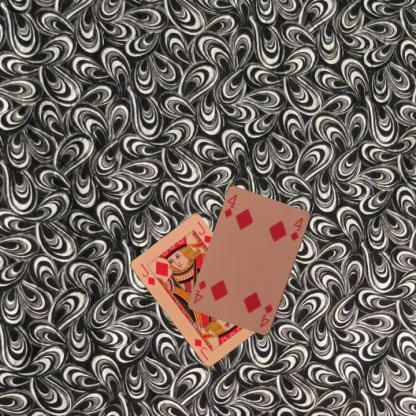4d: (257, 301, 275, 328), (221, 192, 238, 220)
Jd: (138, 261, 157, 287)
